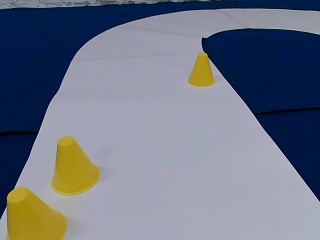cone: (7, 188, 66, 238), (50, 137, 99, 194), (188, 53, 214, 86)
